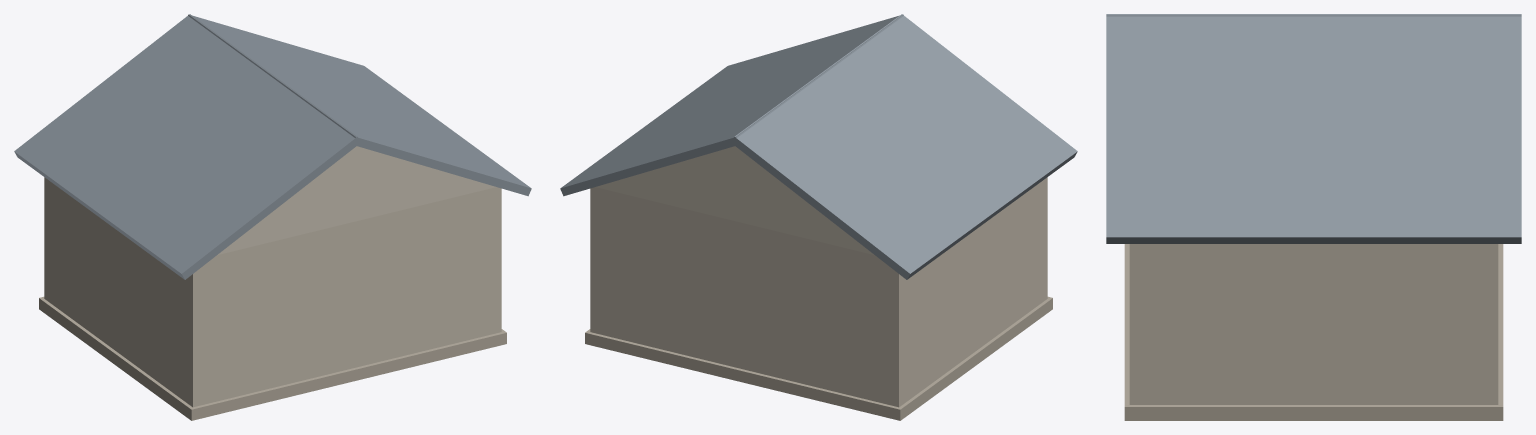
The picture shows the model from 3 angles, left to right: view 1: azimuth 30°, elevation 25°; view 2: azimuth 150°, elevation 25°; view 3: azimuth 270°, elevation 25°; orthographic projection. The views are drawn at different scales.
Visible parts, largest first — view 1: StaticGeometry; view 2: StaticGeometry; view 3: StaticGeometry.
Boxes of the visible parts, box(x1,y1,x2,y2) form: StaticGeometry: box(14, 14, 531, 420); StaticGeometry: box(560, 14, 1077, 420); StaticGeometry: box(1106, 14, 1521, 420).
Bounding box in the file's own units: 7.48 × 5.12 × 6.2.
